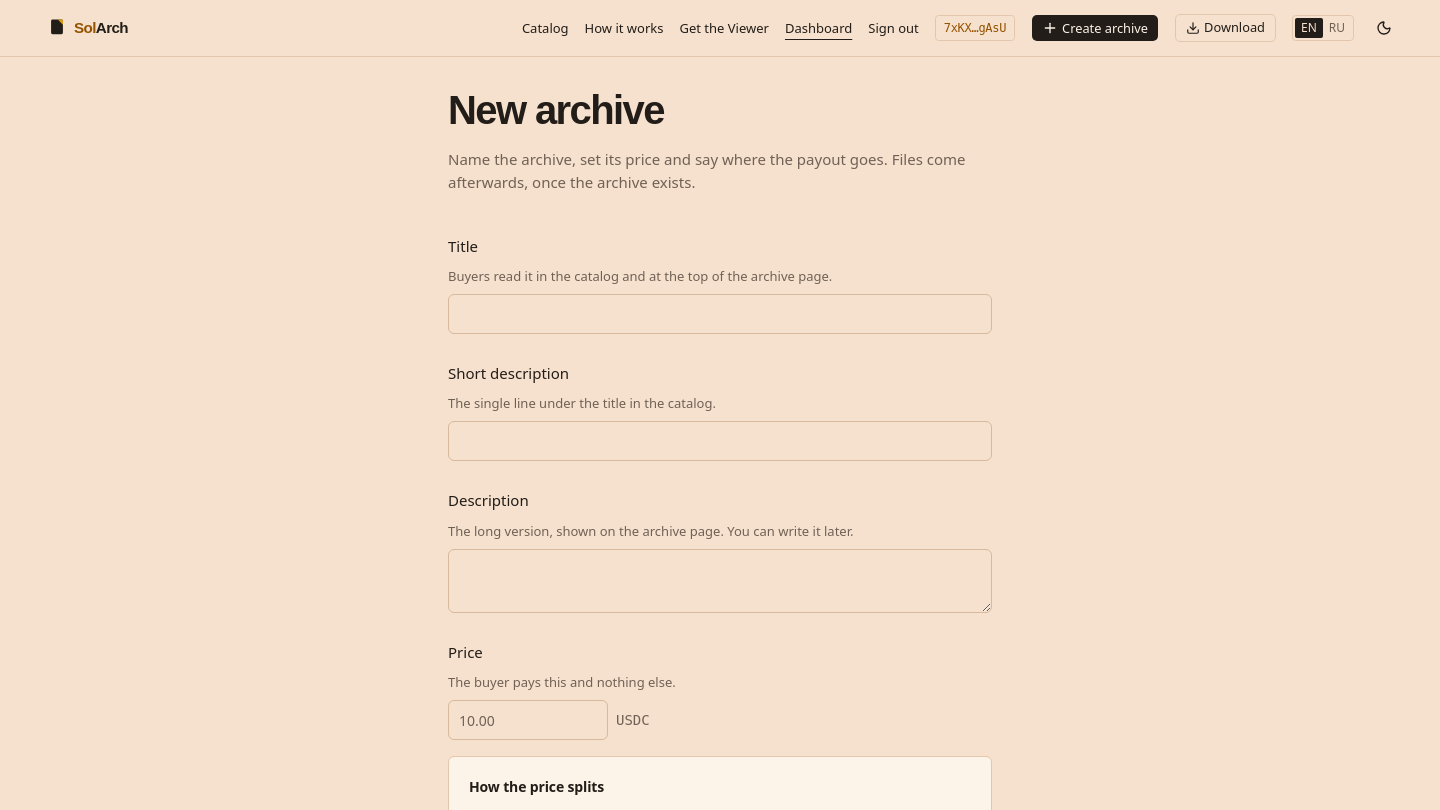
Test case: создание архива › создаёт архив и ведёт автора к загрузке файлов
Type "Field Notes on Rust" into the field labelled "Title" at (720, 314), box [448,294,992,334]
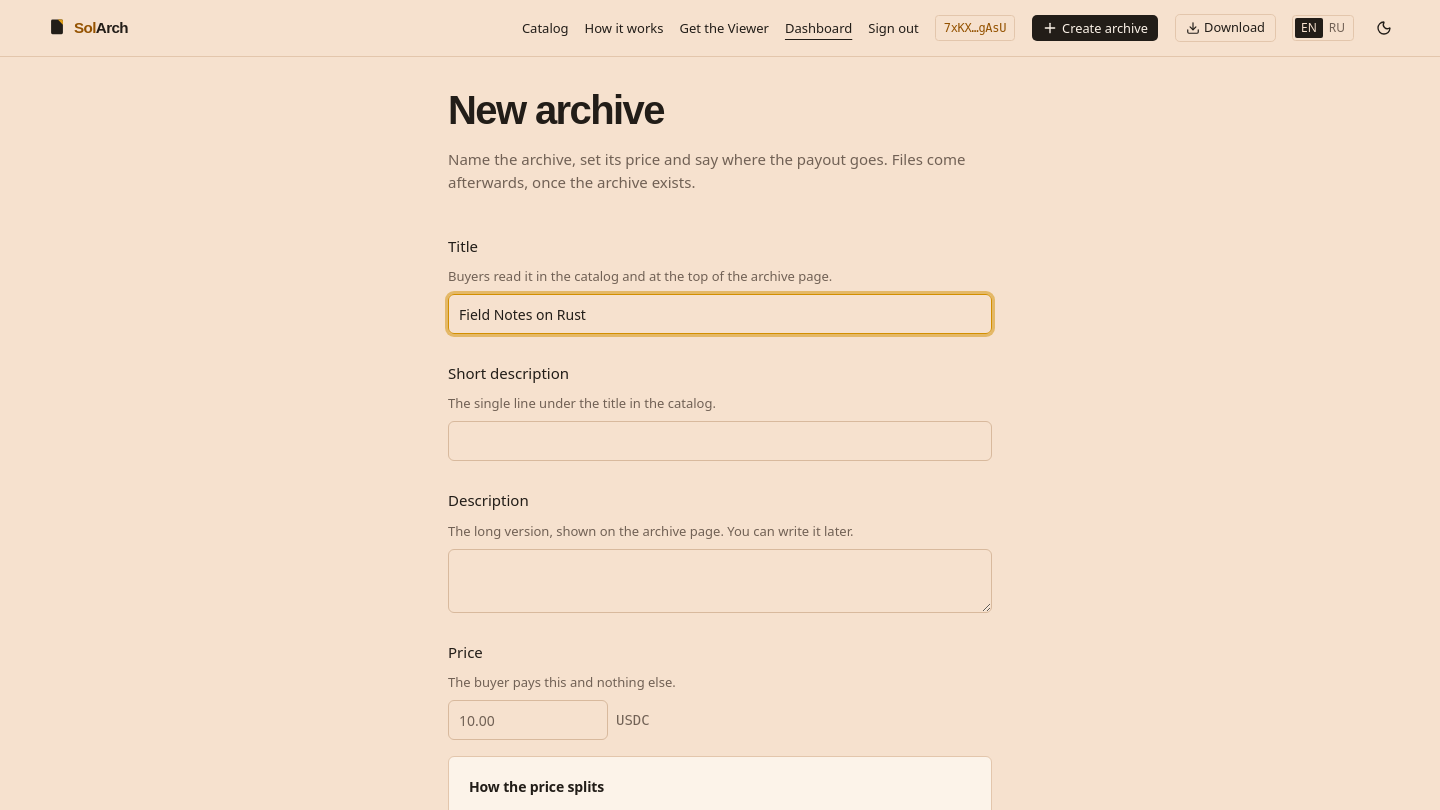
Type "Twelve evenings of FFI" into the field labelled "Short description" at (720, 442), box [448,422,992,462]
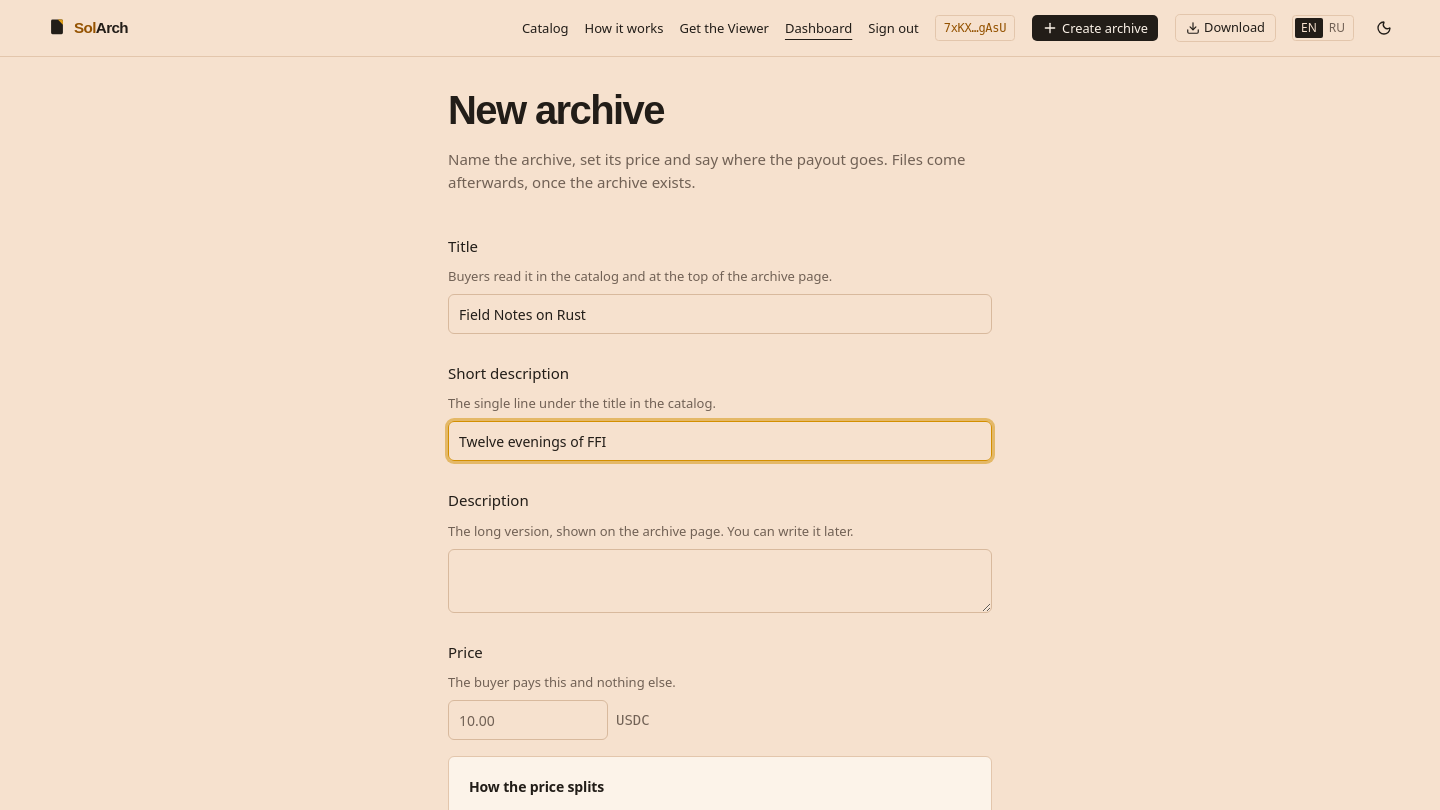
Type "12.50" into the field labelled "Price" at (528, 720), box [448,700,608,740]
(page scrolled)
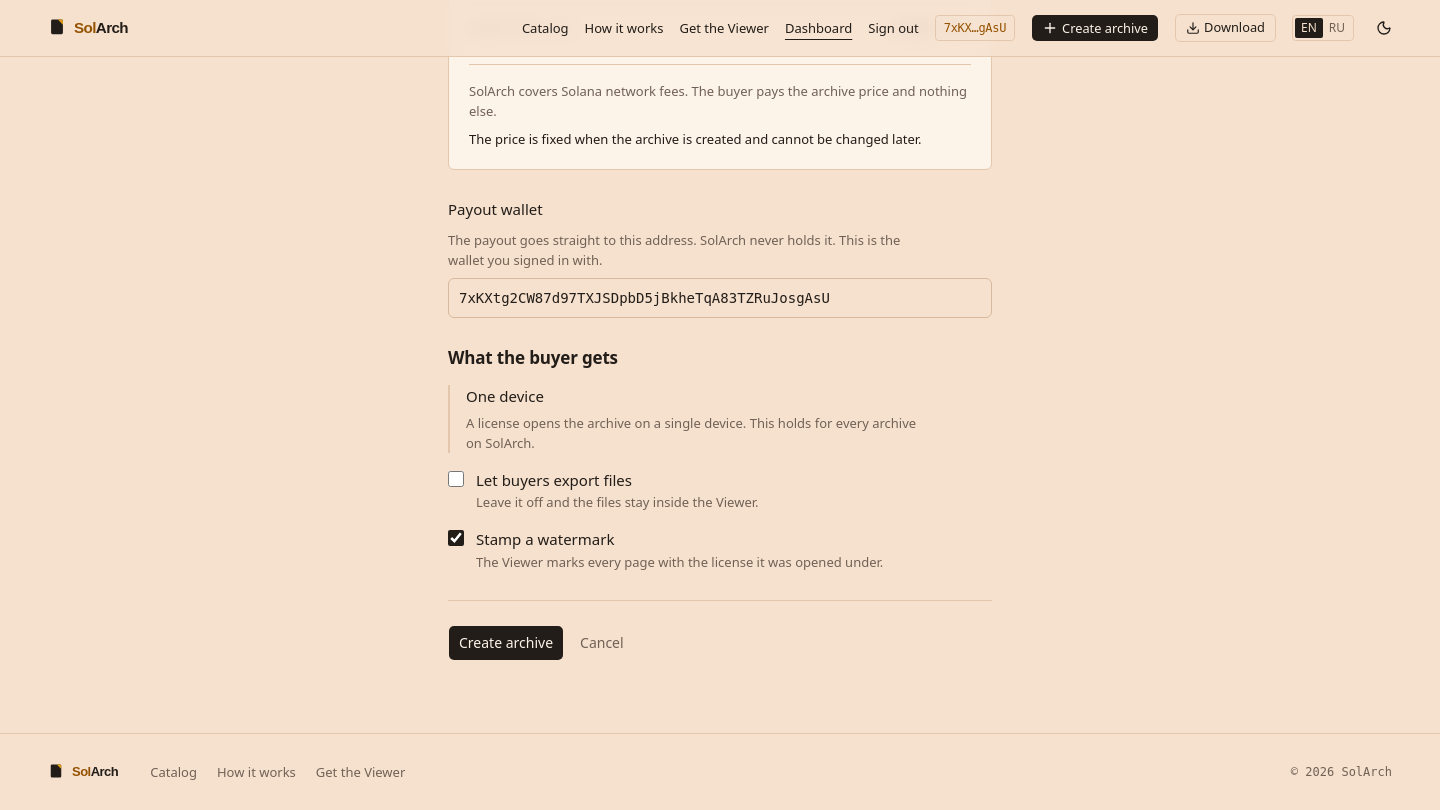
Click the button "Create archive" at (506, 643), box [448,625,564,661]
(page scrolled)
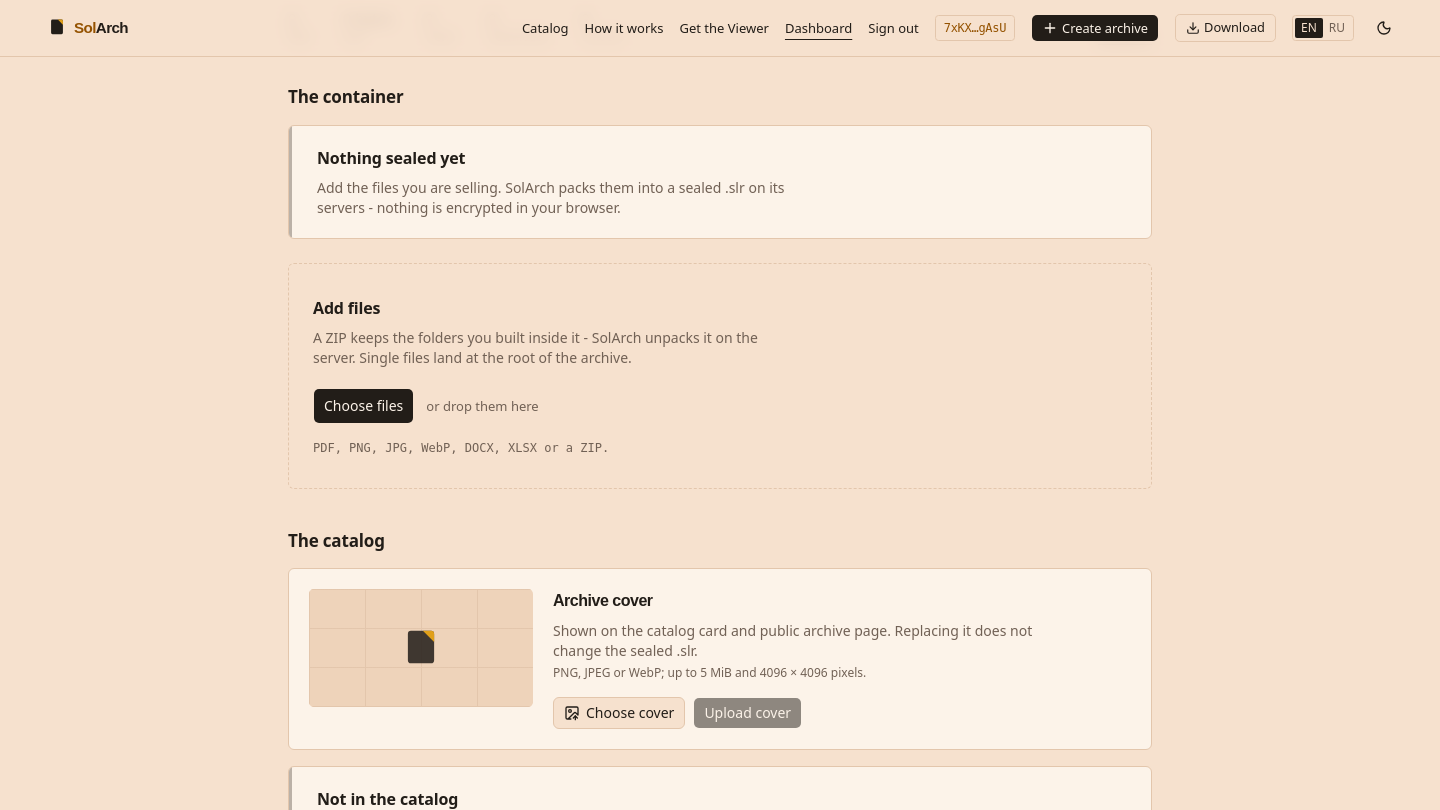
Result: the button "Choose files" is shown at [313,388,414,424]
